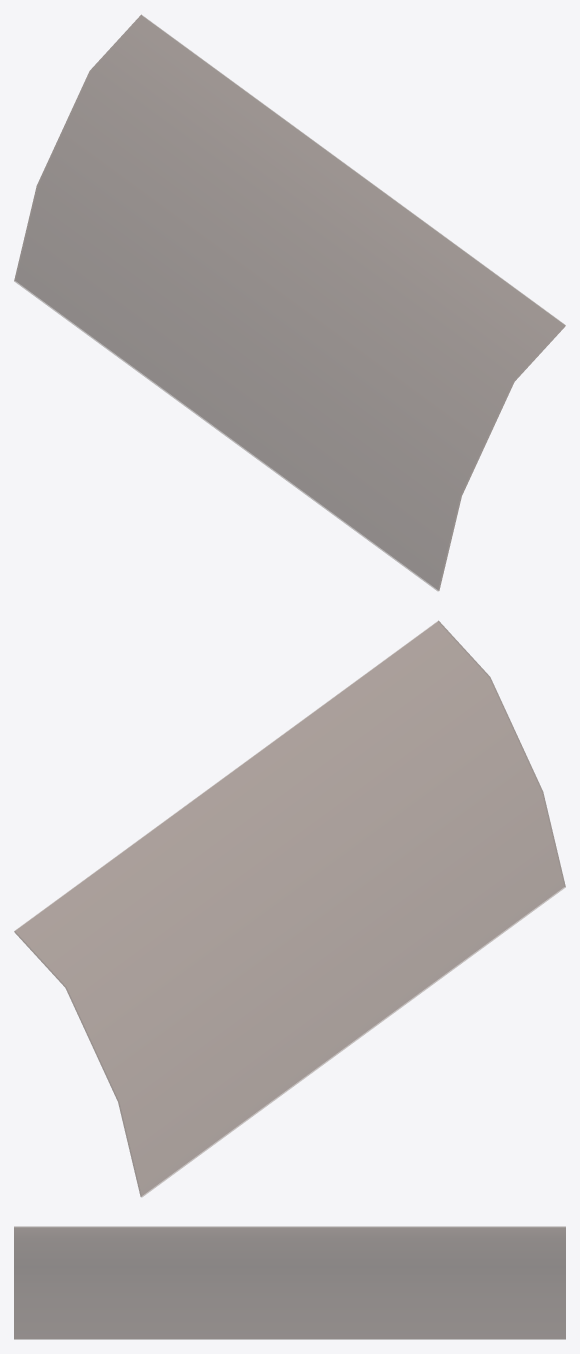
The model's file is Window Pane.fbx.
The picture shows the model from 3 angles, top to bottom: view 1: azimuth 30°, elevation 25°; view 2: azimuth 150°, elevation 25°; view 3: azimuth 270°, elevation 25°; orthographic projection. The views are drawn at different scales.
Visible parts, largest first — view 1: pPipe3; view 2: pPipe3; view 3: pPipe3.
Part boxes in pixels (x1,y1,x2,y2): pPipe3: [14, 14, 565, 590]; pPipe3: [14, 620, 565, 1196]; pPipe3: [14, 1226, 565, 1339].
Size of the model in its own units: 0.5829 by 1.03 by 3.34.
